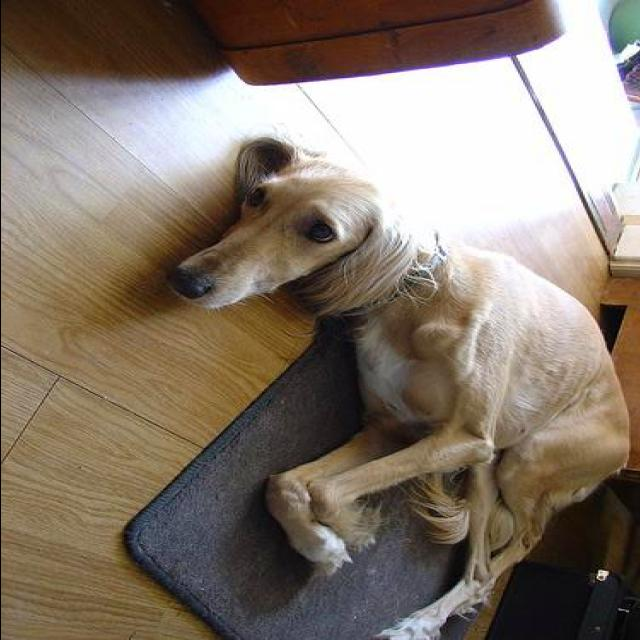saluki: (164, 133, 634, 639)
